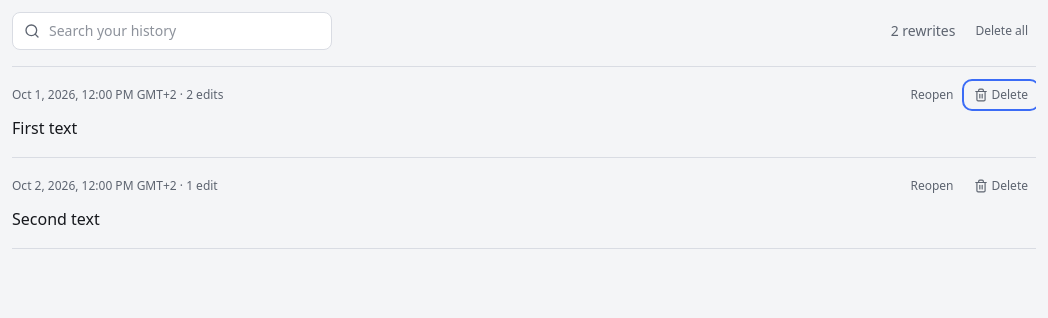
Test: HistoryList › keeps the keyboard's place during a delete, and Enter tries again after a failure
Press Enter
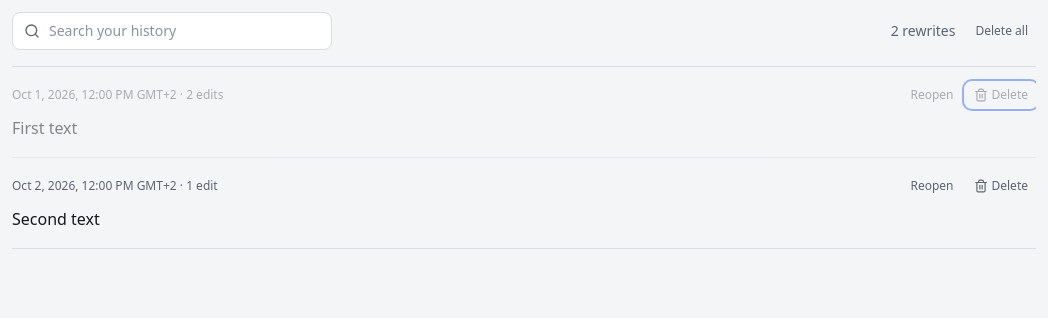
Expected: the button "Delete" in the row of "2 edits" is disabled, [966,83,1036,107]
# Still running: nothing starts twice, from this row or another one
Press Enter
Click the button "Delete" in the row of "1 edit" at coordinates (1001, 186), box [966,174,1036,198]
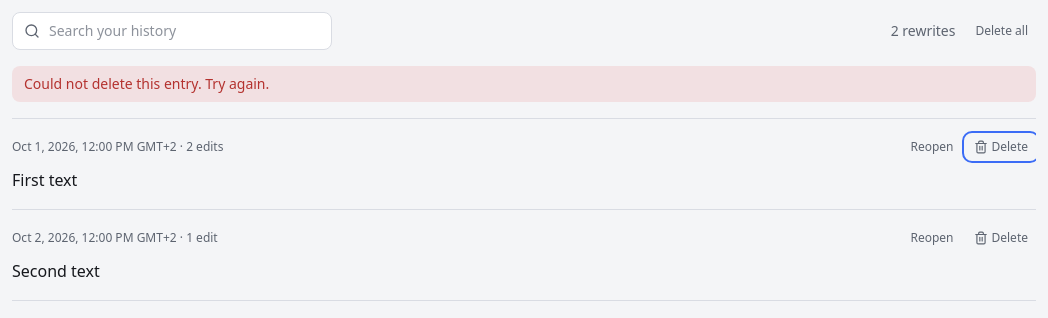
Expected: the message "Could not delete this entry. Try again." is shown, [12,66,1036,102]
Press Enter
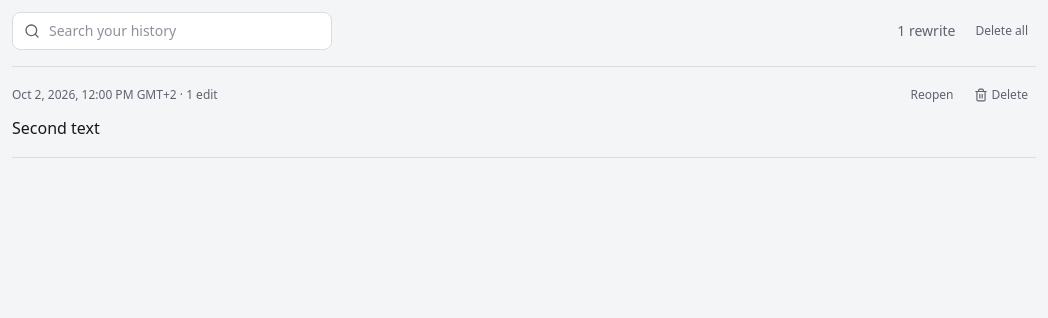
Expected: the text "1 rewrite" is shown, [897,21,955,41]
